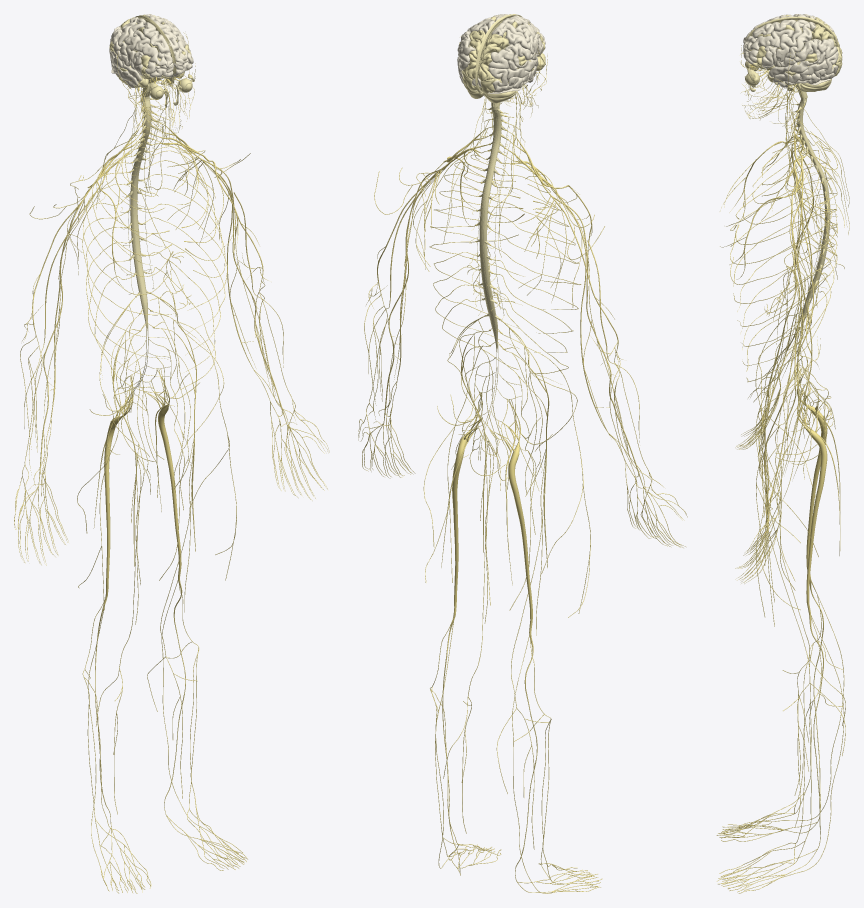
The model's file is nervous-web.glb.
The picture shows the model from 3 angles, left to right: view 1: azimuth 30°, elevation 25°; view 2: azimuth 150°, elevation 25°; view 3: azimuth 270°, elevation 25°; orthographic projection. The views are drawn at different scales.
Visible parts, largest first — view 1: Spinal dura.001, Intercostal nerves.r.001, Intercostal nerves.l.001, Sciatic nerve.r.001, Sciatic nerve.l.001, Middle frontal gyrus.r.001; view 2: Spinal dura.001, Intercostal nerves.l.001, Intercostal nerves.r.001, Sciatic nerve.r.001, Sciatic nerve.l.001, Saphenous nerve.r.001; view 3: Intercostal nerves.l.001, Spinal dura.001, Intercostal nerves.r.001, Sciatic nerve.l.001, Sciatic nerve.r.001, Middle frontal gyrus.l.001, Saphenous nerve.l.001, Lateral femoral cutaneous nerve.l.001, Median nerve.l.001, Saphenous nerve.r.001, Middle temporal gyrus.l.001, Precentral gyrus.l.001 (+17 smaller).
Boxes of the visible parts, x1=… form: Spinal dura.001: x1=128, y1=95, x2=156, y2=335; Intercostal nerves.r.001: x1=82, y1=149, x2=173, y2=392; Intercostal nerves.l.001: x1=141, y1=143, x2=227, y2=389; Sciatic nerve.r.001: x1=104, y1=376, x2=132, y2=595; Sciatic nerve.l.001: x1=146, y1=369, x2=181, y2=577; Middle frontal gyrus.r.001: x1=133, y1=30, x2=166, y2=74; Spinal dura.001: x1=476, y1=104, x2=507, y2=351; Intercostal nerves.l.001: x1=429, y1=154, x2=524, y2=369; Intercostal nerves.r.001: x1=491, y1=162, x2=581, y2=373; Sciatic nerve.r.001: x1=497, y1=399, x2=532, y2=632; Sciatic nerve.l.001: x1=452, y1=393, x2=481, y2=613; Saphenous nerve.r.001: x1=496, y1=452, x2=545, y2=849; Intercostal nerves.l.001: x1=730, y1=153, x2=837, y2=382; Spinal dura.001: x1=796, y1=96, x2=830, y2=330; Intercostal nerves.r.001: x1=730, y1=140, x2=837, y2=371; Sciatic nerve.l.001: x1=797, y1=384, x2=827, y2=612; Sciatic nerve.r.001: x1=797, y1=370, x2=827, y2=577; Middle frontal gyrus.l.001: x1=744, y1=29, x2=794, y2=62; Saphenous nerve.l.001: x1=761, y1=453, x2=845, y2=827; Lateral femoral cutaneous nerve.l.001: x1=755, y1=340, x2=818, y2=617; Median nerve.l.001: x1=769, y1=198, x2=802, y2=508; Saphenous nerve.r.001: x1=762, y1=423, x2=845, y2=795; Middle temporal gyrus.l.001: x1=773, y1=59, x2=827, y2=82; Precentral gyrus.l.001: x1=775, y1=21, x2=804, y2=62.
Bounding box in the file's own units: 0.6675 × 1.69 × 0.2426.
